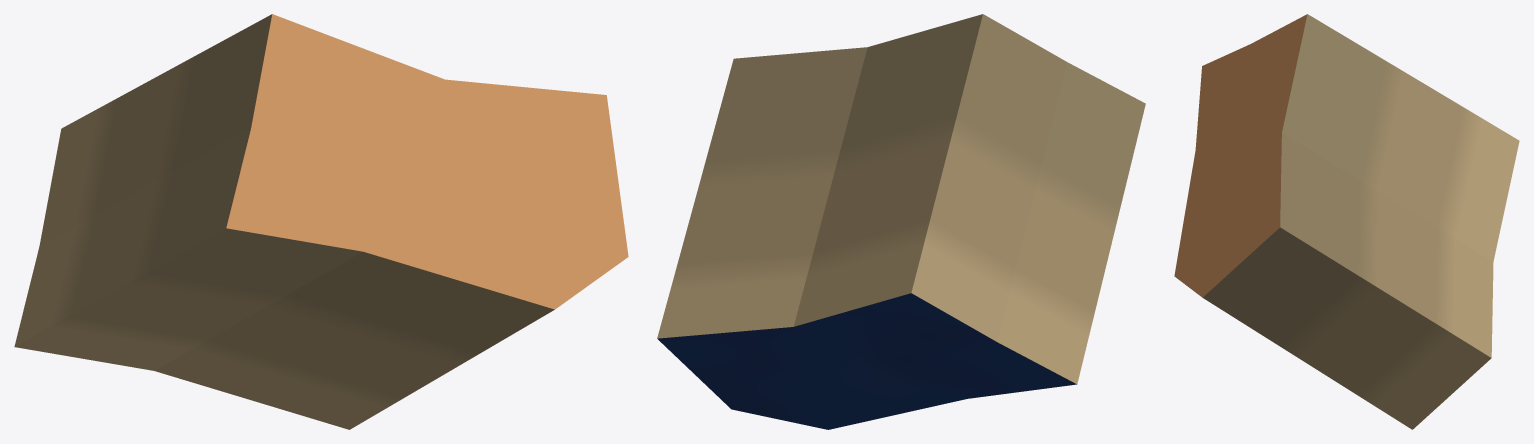
Rendered from 0678_Slovakia.glb.
3 views of the same model, side by side, from view 1: azimuth 30°, elevation 25°; view 2: azimuth 150°, elevation 25°; view 3: azimuth 270°, elevation 25° (orthographic). The views are drawn at different scales.
Visible parts, largest first — view 1: part_0; view 2: part_0; view 3: part_0.
Boxes of the visible parts, x1,y1,x2,y2 form: part_0: (14,14,628,429); part_0: (657,14,1145,429); part_0: (1174,14,1519,429).
Bounding box in the file's own units: 0.3028 × 0.2816 × 0.2528.
Materials: 1 (1 with a texture image).
